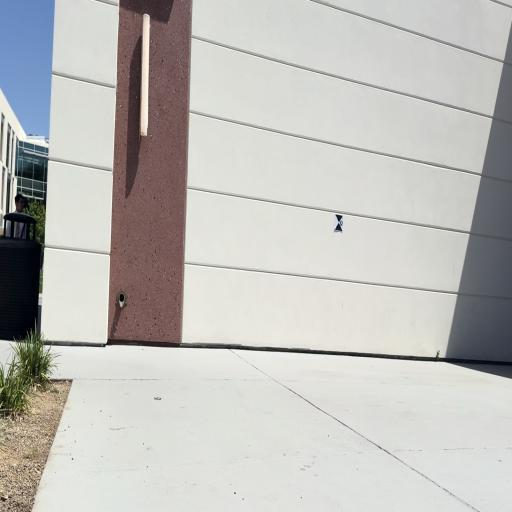target0: (334, 212, 343, 233)
